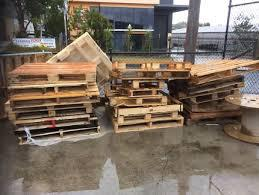wood: (7, 59, 102, 137), (109, 58, 191, 131), (196, 55, 255, 123)
